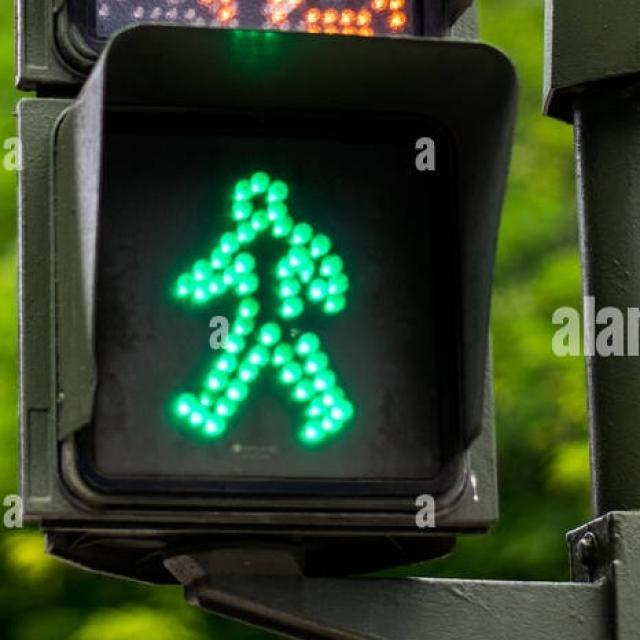green_light: (160, 144, 370, 452)
